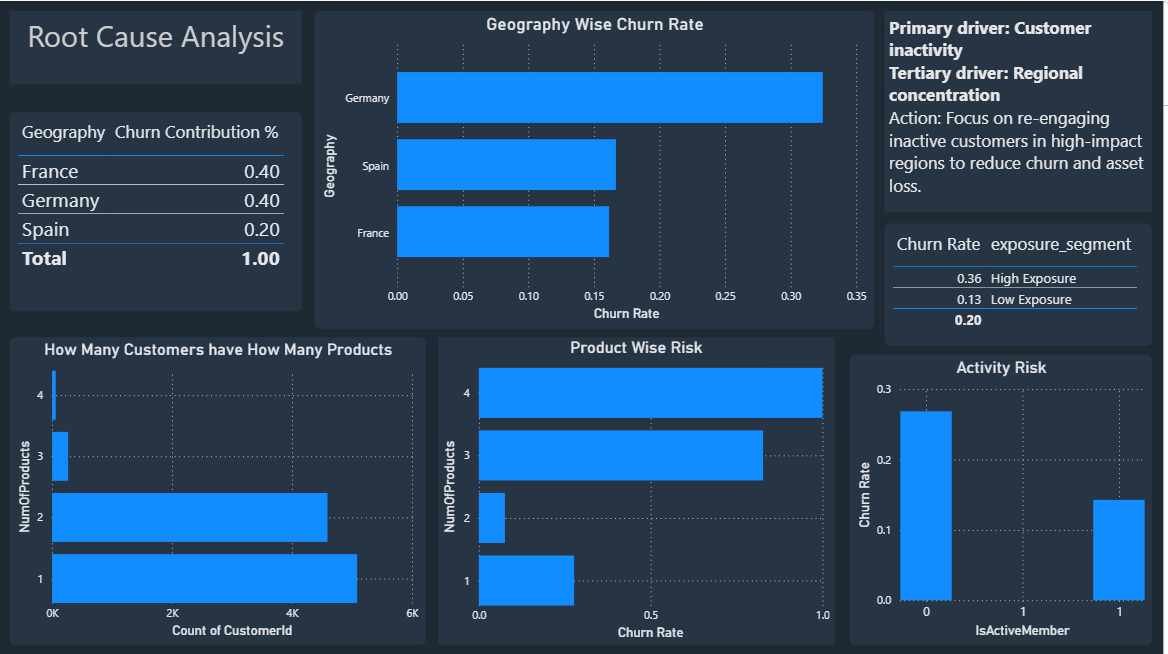

The dashboard page shown, as its layout file describes it:
{"tool":"powerbi","page":{"name":"Root Cause Analysis 🧐","canvas":[1280,720],"ordinal":1},"visuals":[{"type":"barChart","title":"Product Wise Risk ","fields":{"Category":["churn.NumOfProducts"],"Y":["churn.Churn Rate"]},"box":[710.6,378,327.6,327.6],"z":0},{"type":"columnChart","title":"Activity Risk","fields":{"Category":["churn.IsActiveMember"],"Y":["churn.Churn Rate"]},"box":[1038.1,378,230.1,327.6],"z":1000},{"type":"barChart","title":"Geography Wise Churn Rate","fields":{"Category":["churn.Geography"],"Y":["churn.Churn Rate"]},"box":[348.5,11,614.8,348.5],"z":2000},{"type":"tableEx","fields":{"Values":["churn.Geography","churn.Churn Contribution %"]},"box":[15.1,519.1,310.8,188.1],"z":3000},{"type":"tableEx","fields":{"Values":["churn.Churn Rate","churn_behavior_segment.exposure_segment"]},"box":[15.1,399.8,310.8,131],"z":4000},{"type":"barChart","title":"How Many Customers have How Many Products","fields":{"Y":["CountNonNull(churn.CustomerId)"],"Category":["churn.NumOfProducts"]},"box":[348.5,378.7,362.3,328],"z":5000},{"type":"textbox","box":[15.1,11,311.5,76.8],"z":6000},{"type":"textbox","box":[974.3,11.8,294,347.7],"z":7000},{"type":"pageNavigator","box":[15.1,99.1,310.8,278.8],"z":8000},{"type":"image","box":[1029.7,11.8,169.7,110.9],"z":9000}]}

Visuals, with their boxes in screenshot pixels (x1, y1, x2, y2), scaled from the page's 1280x720 canvas onto the 1168x654 screenshot:
"Product Wise Risk " barChart: locate(648, 343, 947, 641)
"Activity Risk" columnChart: locate(947, 343, 1157, 641)
"Geography Wise Churn Rate" barChart: locate(318, 10, 879, 327)
tableEx - churn.Geography x churn.Churn Contribution %: locate(14, 472, 297, 642)
tableEx - churn.Churn Rate x churn_behavior_segment.exposure_segment: locate(14, 363, 297, 482)
"How Many Customers have How Many Products" barChart: locate(318, 344, 649, 642)
textbox: locate(14, 10, 298, 80)
textbox: locate(889, 11, 1157, 327)
pageNavigator: locate(14, 90, 297, 343)
image: locate(940, 11, 1094, 111)
